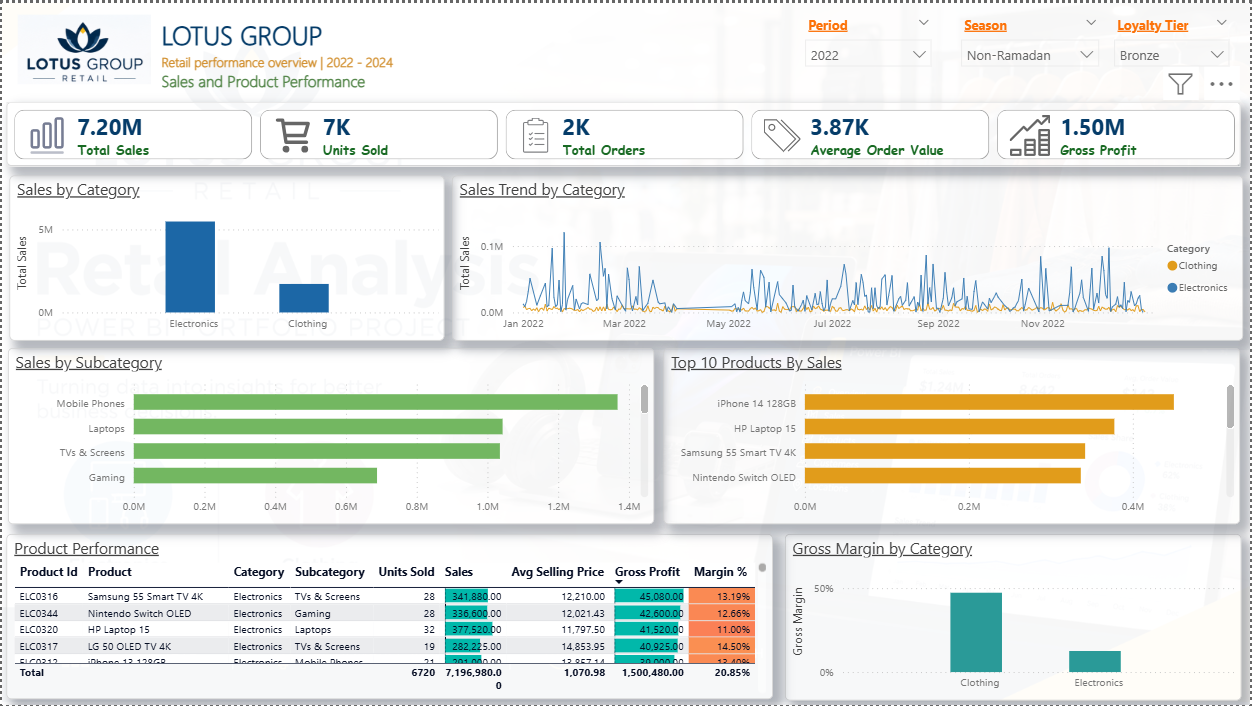

The dashboard page shown, as its layout file describes it:
{"tool":"powerbi","page":{"name":"Sales and Product Performance","canvas":[1280,720],"ordinal":1},"visuals":[{"type":"slicer","fields":{"Values":["dim_date.full_date.Variation.Date Hierarchy.Year","dim_date.full_date.Variation.Date Hierarchy.Quarter","dim_date.full_date.Variation.Date Hierarchy.Month"]},"box":[814.1,8.2,149.4,62.4],"z":0},{"type":"cardVisual","fields":{"Data":["_Measures.Total Sales","_Measures.Units Sold","_Measures.Total Orders","_Measures.Average Order Value","_Measures.Gross Profit"]},"box":[4,102.2,1266.3,65],"z":1000},{"type":"textbox","box":[4.6,9.2,304.3,86.5],"z":2000},{"type":"clusteredColumnChart","title":"Sales by Category","fields":{"Category":["dim_products.category"],"Y":["_Measures.Total Sales"]},"box":[8.1,176.4,446.1,169.5],"z":3000},{"type":"lineChart","title":"Sales Trend by Category","fields":{"Y":["_Measures.Total Sales"],"Category":["dim_date.full_date"],"Series":["dim_products.category"]},"box":[462.3,177.5,811.6,169.5],"z":4000},{"type":"clusteredBarChart","title":"Sales by Subcategory","fields":{"Category":["dim_products.subcategory"],"Y":["_Measures.Total Sales"]},"box":[6.9,353.9,662.9,181],"z":5000},{"type":"clusteredColumnChart","title":"Gross Margin by Category","fields":{"Y":["_Measures.Gross Margin %"],"Category":["dim_products.category"]},"box":[803.5,544.1,468,170.6],"z":6000},{"type":"tableEx","title":"Product Performance","fields":{"Values":["dim_products.product_id","dim_products.product_name_raw","dim_products.category","dim_products.subcategory","_Measures.Units Sold","_Measures.Total Sales","_Measures.Average Selling Price","_Measures.Gross Profit","_Measures.Gross Margin %"]},"box":[4.6,544.1,786.2,169.5],"z":7000},{"type":"clusteredBarChart","title":"Top 10 Products By Sales","fields":{"Y":["_Measures.Total Sales"],"Category":["dim_products.product_name_raw"]},"box":[679,353.9,591.4,181],"z":8000},{"type":"slicer","fields":{"Values":["dim_date.Period Type"]},"box":[974.1,8.2,161.2,62.4],"z":9000},{"type":"slicer","fields":{"Values":["dim_customers.loyalty_tier"]},"box":[1130.9,8,138,62.4],"z":10000}]}

Visuals, with their boxes in screenshot pixels (x1, y1, x2, y2), scaled from the page's 1280x720 canvas onto the 1252x706 screenshot:
slicer - dim_date.full_date.Variation.Date Hierarchy.Year x dim_date.full_date.Variation.Date Hierarchy.Quarter: select_region(796, 8, 942, 69)
cardVisual - _Measures.Total Sales x _Measures.Units Sold: select_region(4, 100, 1243, 164)
textbox: select_region(4, 9, 302, 94)
"Sales by Category" clusteredColumnChart: select_region(8, 173, 444, 339)
"Sales Trend by Category" lineChart: select_region(452, 174, 1246, 340)
"Sales by Subcategory" clusteredBarChart: select_region(7, 347, 655, 524)
"Gross Margin by Category" clusteredColumnChart: select_region(786, 534, 1244, 701)
"Product Performance" tableEx: select_region(4, 534, 774, 700)
"Top 10 Products By Sales" clusteredBarChart: select_region(664, 347, 1243, 524)
slicer - dim_date.Period Type: select_region(953, 8, 1110, 69)
slicer - dim_customers.loyalty_tier: select_region(1106, 8, 1241, 69)
